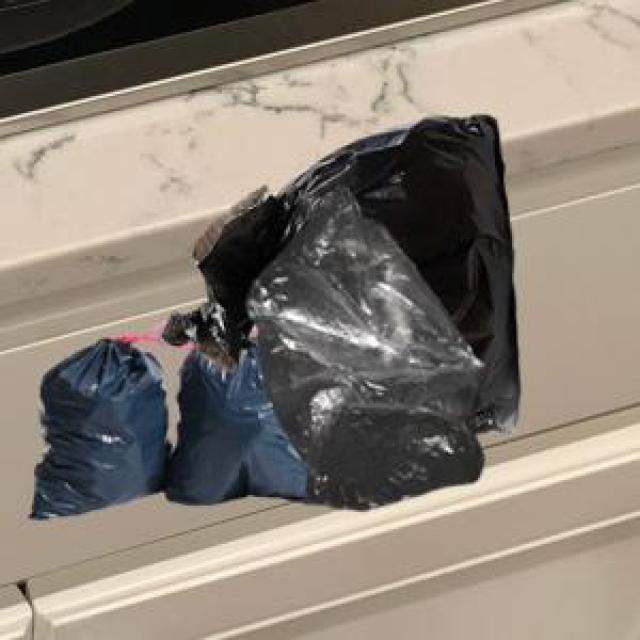miscellaneous trash: (154, 111, 516, 429), (26, 331, 310, 514)
